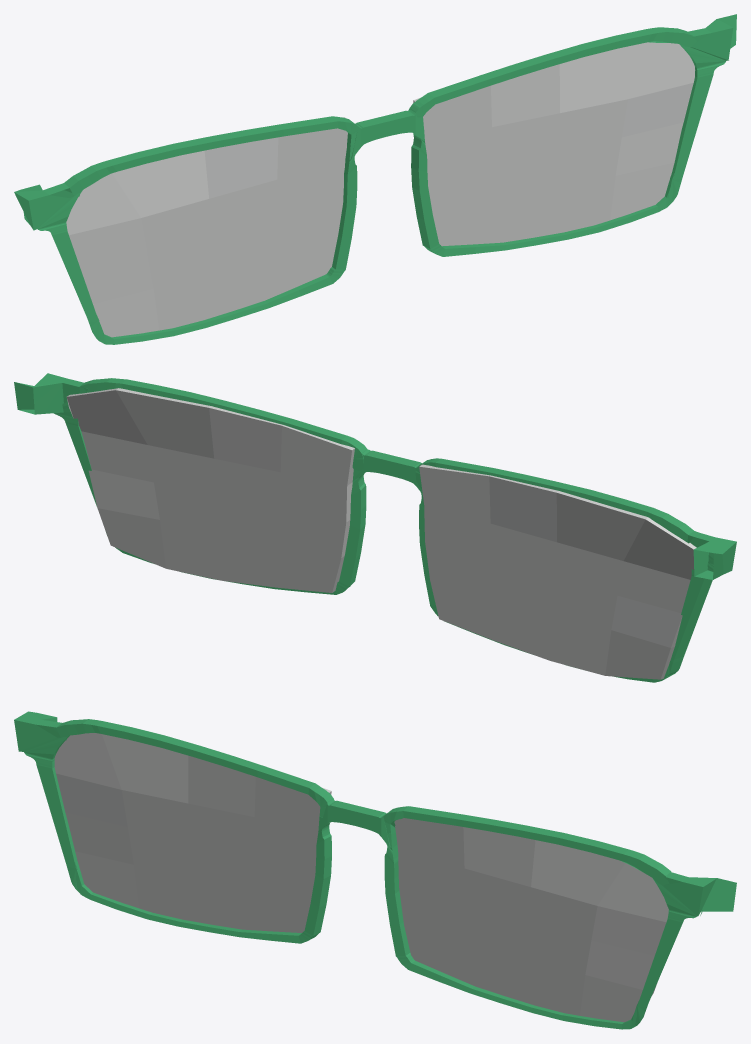
Rendered from 2-Green-less.glb.
3 renders of one model, top to bottom at view 1: azimuth 30°, elevation 25°; view 2: azimuth 150°, elevation 25°; view 3: azimuth 330°, elevation 25°, orthographic. The views are drawn at different scales.
Visible parts, largest first — view 1: Lens, frameEnd.001; view 2: Lens, frameEnd.001; view 3: Lens, frameEnd.001.
Part boxes in pixels (x1=…): Lens: x1=66, y1=42, x2=695, y2=337; frameEnd.001: x1=14, y1=14, x2=736, y2=344; Lens: x1=66, y1=388, x2=696, y2=679; frameEnd.001: x1=14, y1=373, x2=736, y2=682; Lens: x1=54, y1=733, x2=668, y2=1022; frameEnd.001: x1=14, y1=711, x2=736, y2=1029.
Bounding box in the file's own units: 2.22 × 0.5397 × 0.1174.
